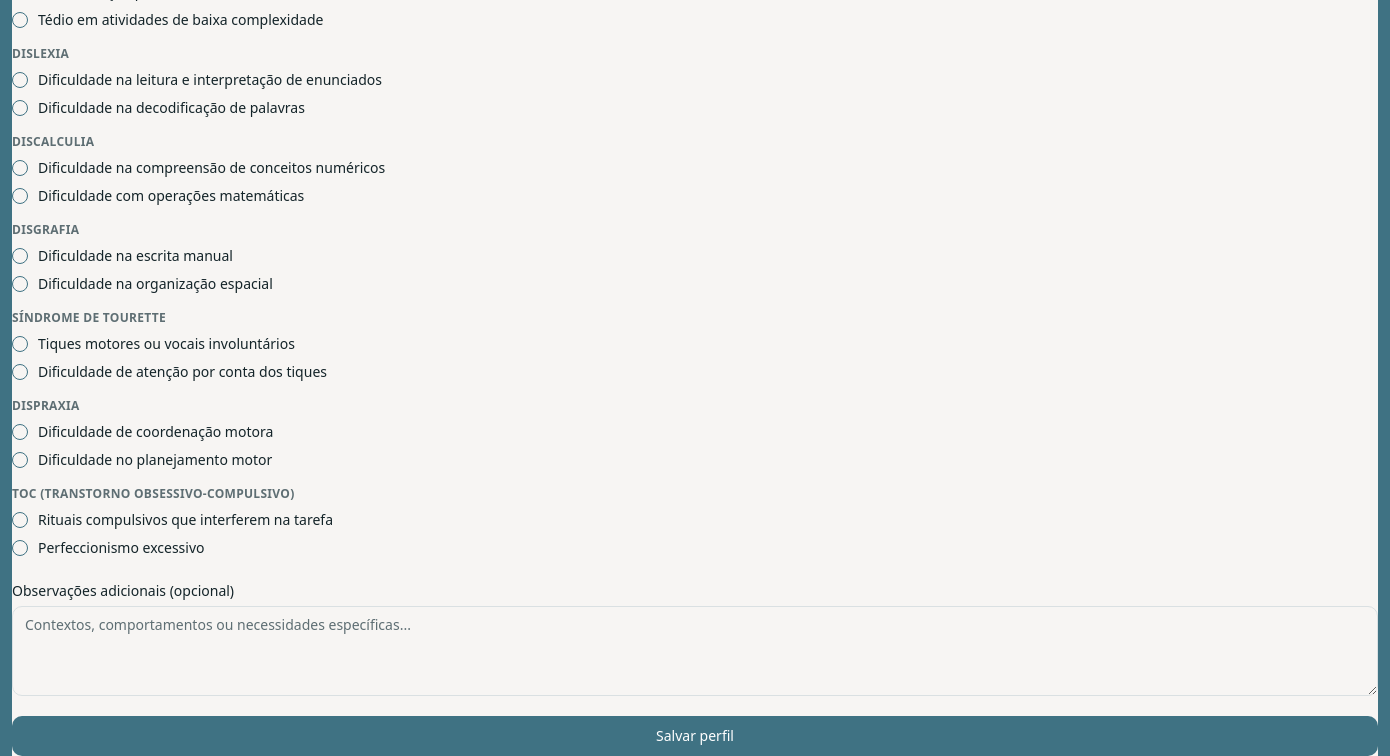
Test: BarrierProfileForm › shows zod validation error when submitting with no barriers
(page scrolled)
Click the button "Salvar perfil": (695, 736) [12,716,1378,755]
(page scrolled)
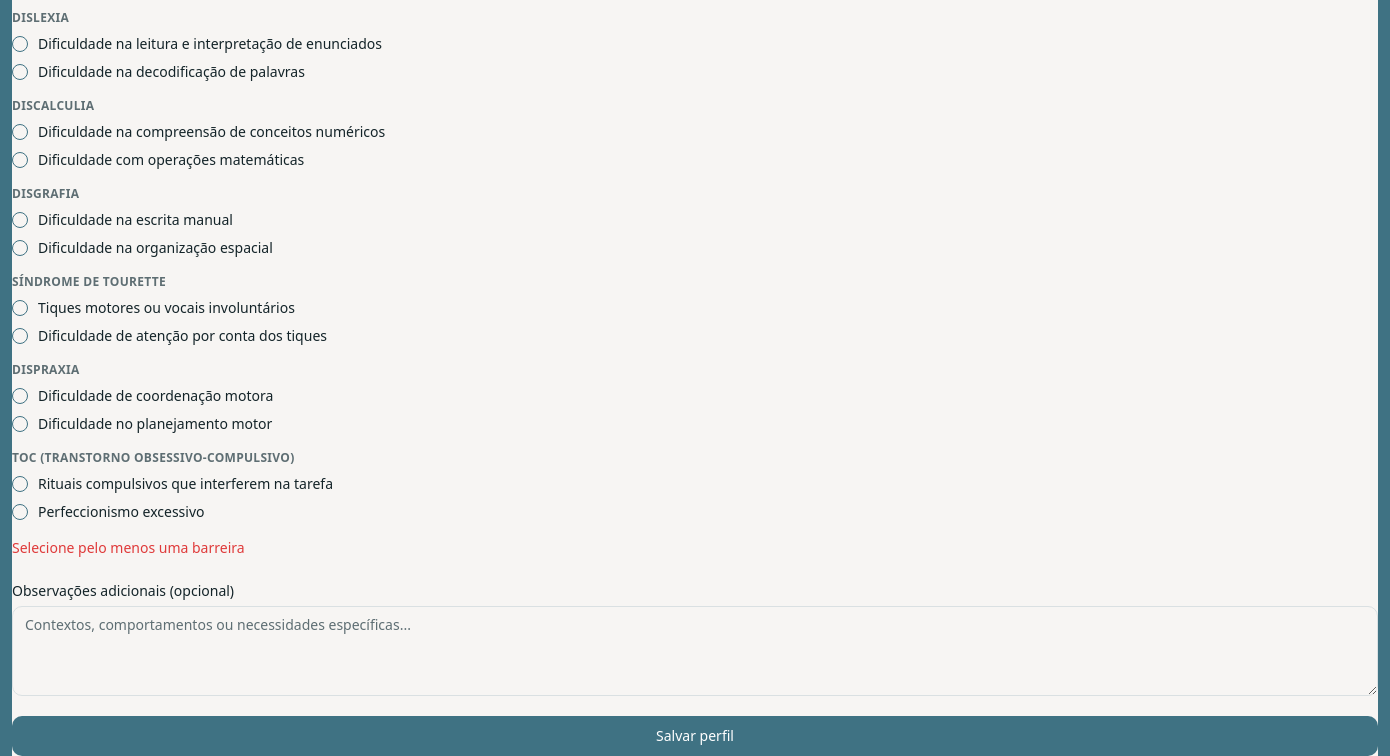
Expected: the text "Selecione pelo menos uma barreira" is shown, [12,538,245,557]
